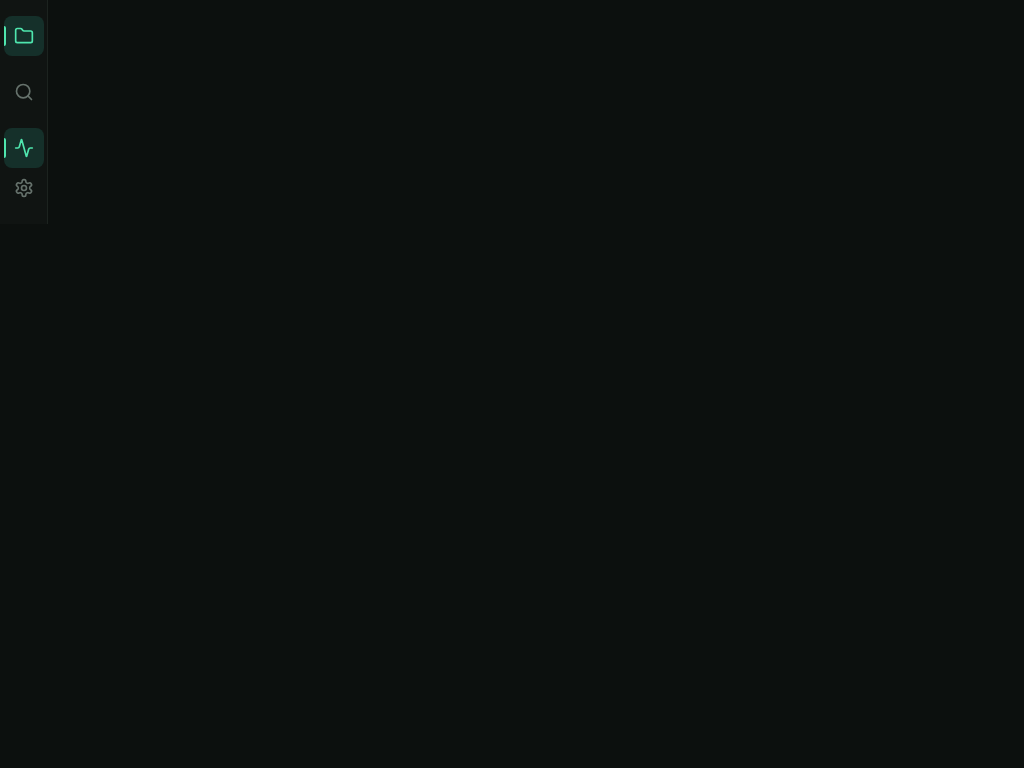
Test: D0 — i18n + Configurações › engrenagem do ribbon abre o modal; Esc fecha
Step 1. Click the button with test id "ribbon-settings" → coordinates (24, 188), box [4, 168, 44, 208]
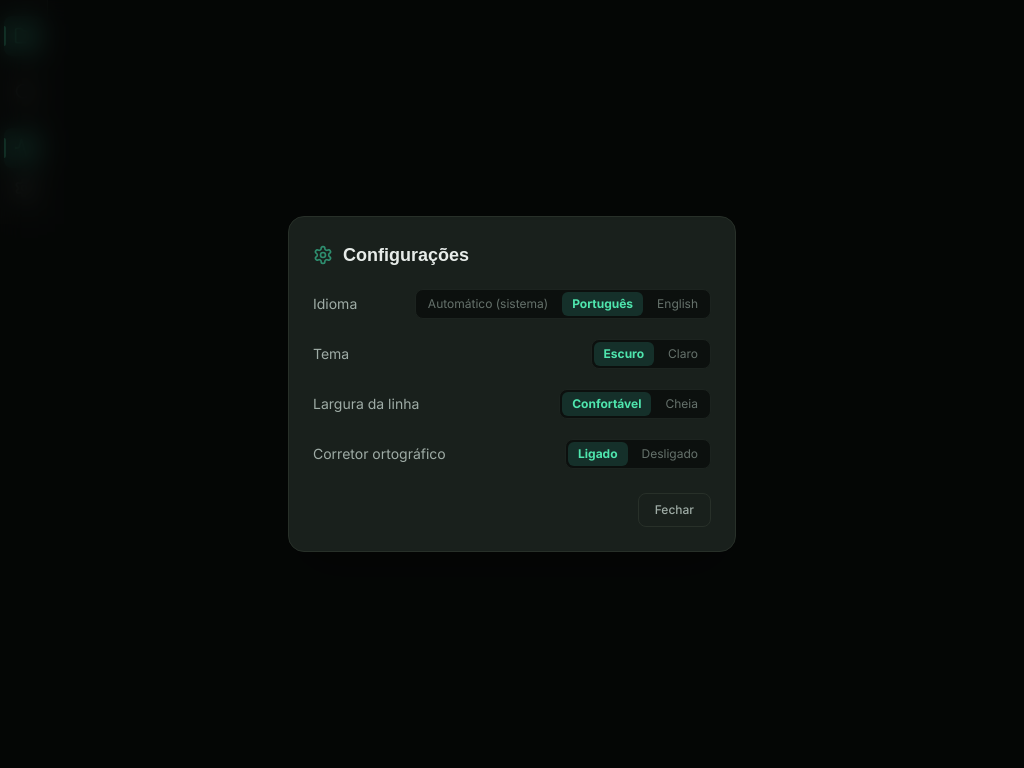
Result: the element with test id "settings-modal" is shown at [288, 216, 736, 552]
Step 2. Press Escape
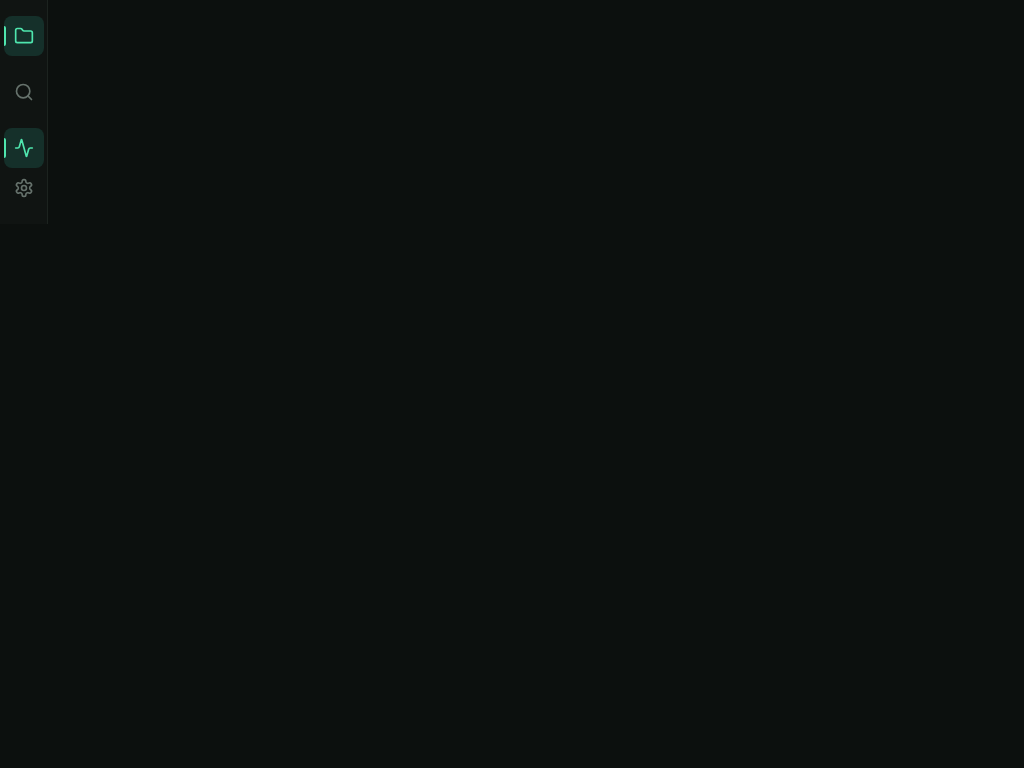
Result: the element with test id "settings-modal" is gone
